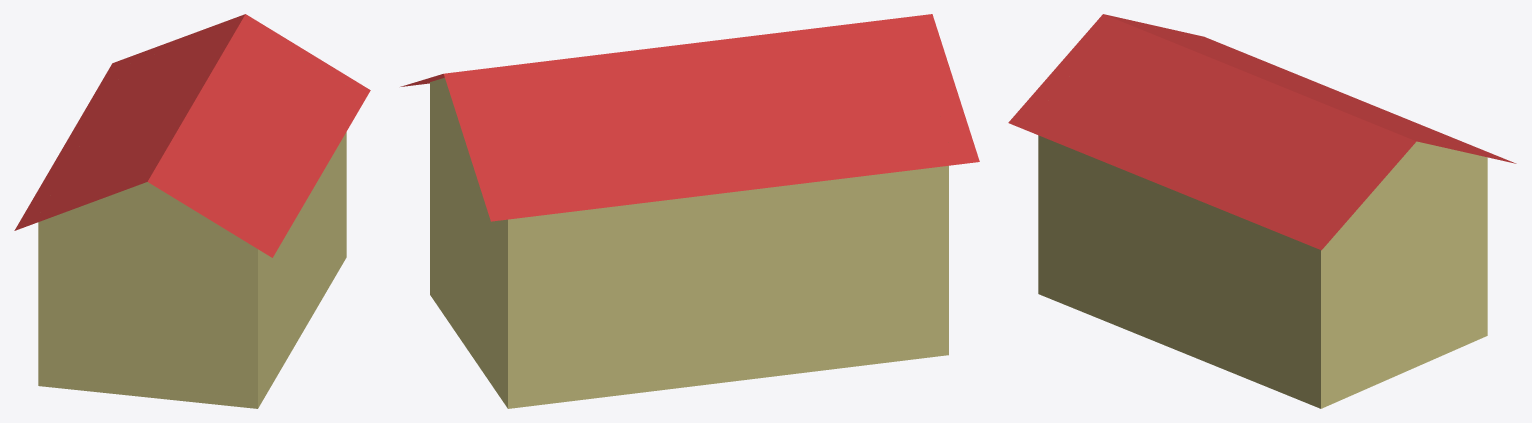
3 views of the same model, side by side, from view 1: azimuth 30°, elevation 25°; view 2: azimuth 150°, elevation 25°; view 3: azimuth 270°, elevation 25° (orthographic). The views are drawn at different scales.
Bounding box in the file's own units: 17.77 × 17.92 × 9.25.
